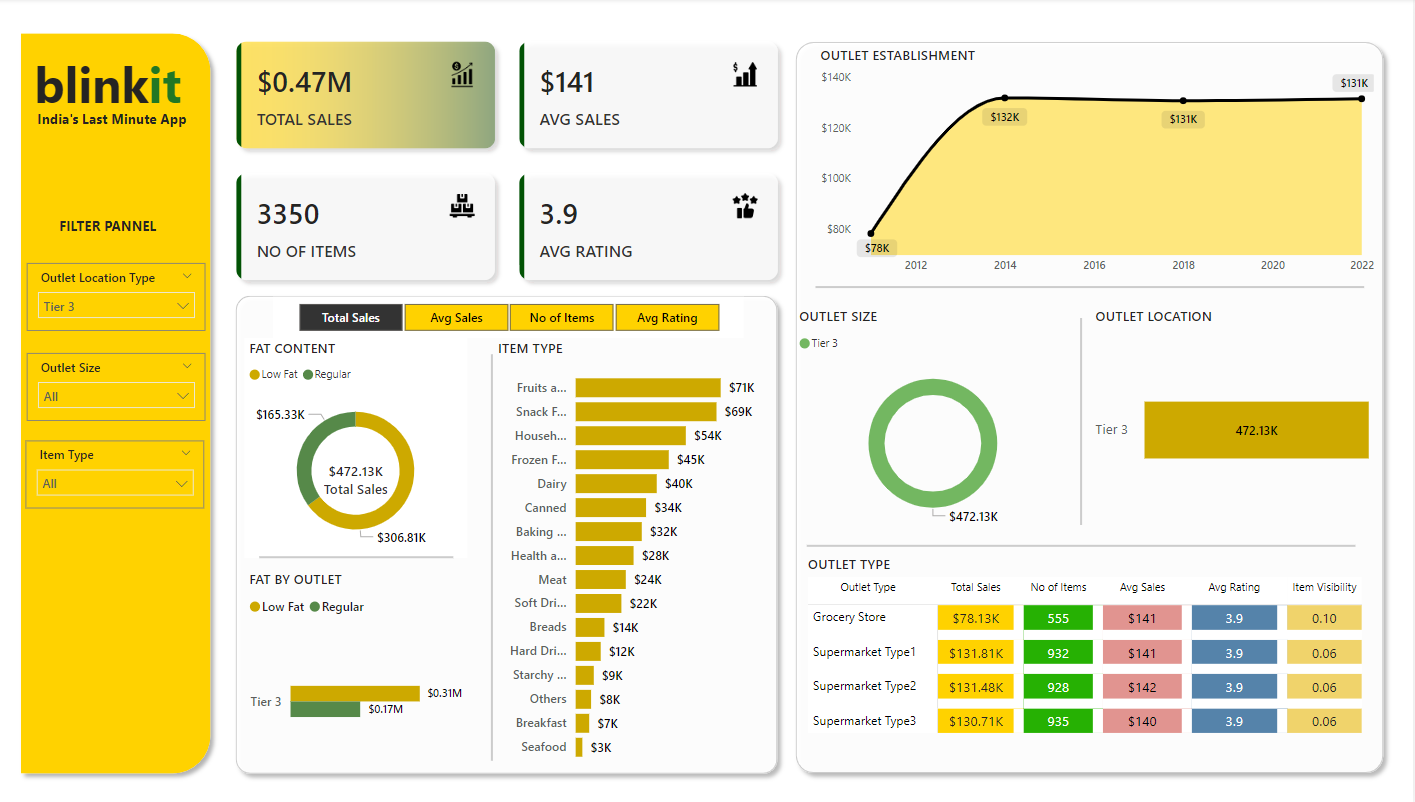

What the dashboard file says about the page in this screenshot:
{"tool":"powerbi","page":{"name":"Page 1","canvas":[1400,800],"ordinal":0},"visuals":[{"type":"shape","box":[13.5,25.5,205.6,750.4],"z":0},{"type":"textbox","box":[31.5,46.5,171.1,90.1],"z":1000},{"type":"textbox","box":[27,105.1,171.1,31.5],"z":2000},{"type":"cardVisual","fields":{"Data":["BlinkIT Grocery Data.Total Sales","BlinkIT Grocery Data.Avg Sales","BlinkIT Grocery Data.No of Items","BlinkIT Grocery Data.Avg Rating"]},"box":[219.1,25.5,570.3,270.2],"z":3000},{"type":"shape","box":[226.6,285.2,553.8,490.8],"z":4000},{"type":"donutChart","title":"FAT CONTENT","fields":{"Y":["BlinkIT Grocery Data.Total Sales"],"Category":["BlinkIT Grocery Data.Item Fat Content"]},"box":[243.1,336.2,220.6,217.6],"z":5000},{"type":"slicer","fields":{"Values":["Metrics.Metrics"]},"box":[271.7,295.7,465.3,40.5],"z":6000},{"type":"cardVisual","fields":{"Data":["BlinkIT Grocery Data.Total Sales"]},"box":[303.2,441.3,102.1,64.5],"z":7000},{"type":"clusteredBarChart","title":"FAT BY OUTLET","fields":{"Y":["BlinkIT Grocery Data.Total Sales"],"Category":["BlinkIT Grocery Data.Outlet Location Type"],"Series":["BlinkIT Grocery Data.Item Fat Content"]},"box":[243.1,565.8,220.6,210.1],"z":8000},{"type":"shape","box":[258.1,532.8,192.1,40.5],"z":9000},{"type":"shape","box":[474.3,352.7,30,402.2],"z":10000},{"type":"barChart","title":"ITEM TYPE","fields":{"Y":["BlinkIT Grocery Data.Total Sales"],"Category":["BlinkIT Grocery Data.Item Type"]},"box":[489.3,336.2,274.7,429.2],"z":11000},{"type":"shape","box":[780.2,34.9,599.2,741.3],"z":12000},{"type":"lineChart","title":"OUTLET ESTABLISHMENT","fields":{"Y":["BlinkIT Grocery Data.Total Sales"],"Category":["BlinkIT Grocery Data.Outlet Establishment Year"]},"box":[808.3,46.9,557.6,234.6],"z":13000},{"type":"shape","box":[808.3,265.4,542.9,40.2],"z":14000},{"type":"donutChart","title":"OUTLET SIZE","fields":{"Y":["BlinkIT Grocery Data.Total Sales"],"Category":["BlinkIT Grocery Data.Outlet Location Type"]},"box":[788.2,305.6,274.8,225.2],"z":15000},{"type":"shape","box":[1056.3,316.4,30.8,205.1],"z":16000},{"type":"funnel","title":"OUTLET LOCATION","fields":{"Y":["Sum(BlinkIT Grocery Data.Sales)"],"Category":["BlinkIT Grocery Data.Outlet Location Type"]},"box":[1080.4,305.6,285.5,225.2],"z":17000},{"type":"shape","box":[800.3,521.5,542.9,40.2],"z":18000},{"type":"pivotTable","title":"OUTLET TYPE","fields":{"Rows":["BlinkIT Grocery Data.Outlet Type"],"Values":["BlinkIT Grocery Data.Total Sales","BlinkIT Grocery Data.No of Items","BlinkIT Grocery Data.Avg Sales","BlinkIT Grocery Data.Avg Rating","Avg(BlinkIT Grocery Data.Item Visibility)"]},"box":[796.3,550.9,569.7,214.5],"z":19000},{"type":"slicer","fields":{"Values":["BlinkIT Grocery Data.Outlet Location Type"]},"box":[28.2,262.7,176.9,67],"z":20000},{"type":"slicer","fields":{"Values":["BlinkIT Grocery Data.Outlet Size"]},"box":[28.2,351.2,176.9,67],"z":21000},{"type":"slicer","fields":{"Values":["BlinkIT Grocery Data.Item Type"]},"box":[26.8,438.3,176.9,67],"z":22000},{"type":"textbox","box":[55.5,211.6,118.6,36],"z":23000}]}

Visuals, with their boxes in screenshot pixels (x1, y1, x2, y2), scaled from the page's 1400x800 canvas onto the 1415x802 screenshot:
shape: bbox=[14, 26, 221, 778]
textbox: bbox=[32, 47, 205, 137]
textbox: bbox=[27, 105, 200, 137]
cardVisual - BlinkIT Grocery Data.Total Sales x BlinkIT Grocery Data.Avg Sales: bbox=[221, 26, 798, 296]
shape: bbox=[229, 286, 789, 778]
"FAT CONTENT" donutChart: bbox=[246, 337, 469, 555]
slicer - Metrics.Metrics: bbox=[275, 296, 745, 337]
cardVisual - BlinkIT Grocery Data.Total Sales: bbox=[306, 442, 410, 507]
"FAT BY OUTLET" clusteredBarChart: bbox=[246, 567, 469, 778]
shape: bbox=[261, 534, 455, 575]
shape: bbox=[479, 354, 510, 757]
"ITEM TYPE" barChart: bbox=[495, 337, 772, 767]
shape: bbox=[789, 35, 1394, 778]
"OUTLET ESTABLISHMENT" lineChart: bbox=[817, 47, 1381, 282]
shape: bbox=[817, 266, 1366, 306]
"OUTLET SIZE" donutChart: bbox=[797, 306, 1074, 532]
shape: bbox=[1068, 317, 1099, 523]
"OUTLET LOCATION" funnel: bbox=[1092, 306, 1381, 532]
shape: bbox=[809, 523, 1358, 563]
"OUTLET TYPE" pivotTable: bbox=[805, 552, 1381, 767]
slicer - BlinkIT Grocery Data.Outlet Location Type: bbox=[29, 263, 207, 331]
slicer - BlinkIT Grocery Data.Outlet Size: bbox=[29, 352, 207, 419]
slicer - BlinkIT Grocery Data.Item Type: bbox=[27, 439, 206, 507]
textbox: bbox=[56, 212, 176, 248]
